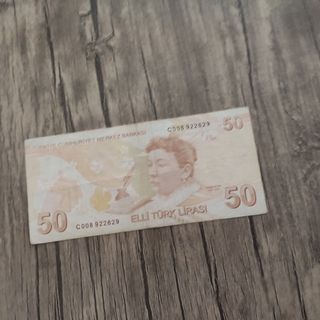50TLBack: (23, 105, 268, 246)
